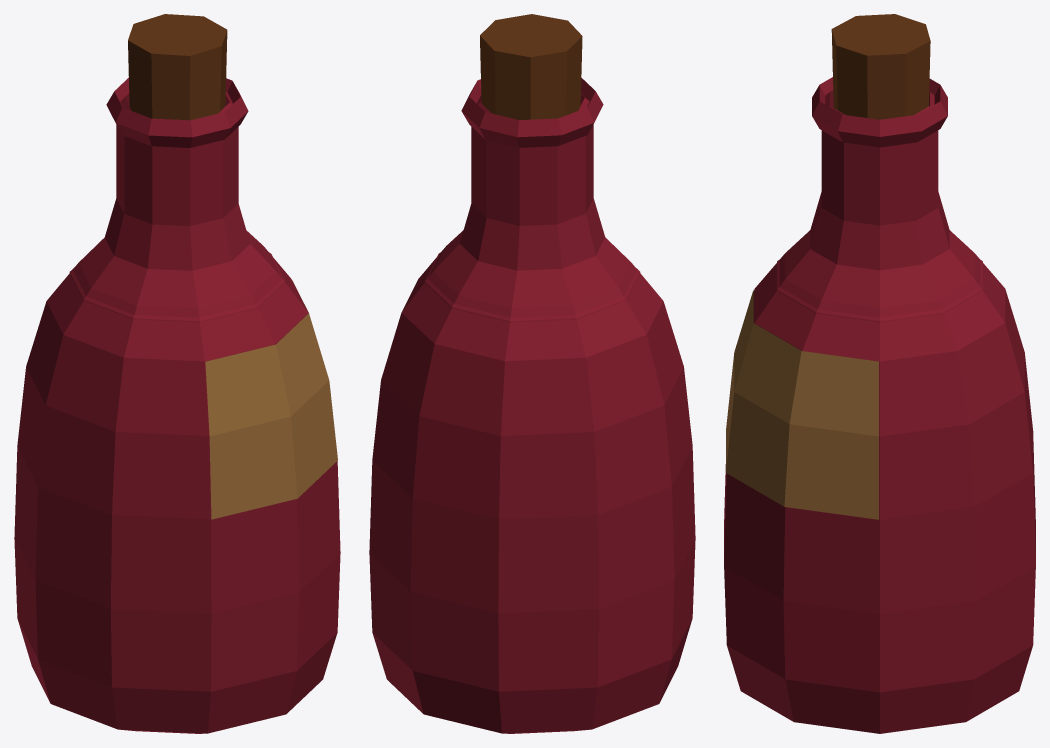
File: WineBottle.fbx
3 renders of one model, left to right at view 1: azimuth 30°, elevation 25°; view 2: azimuth 150°, elevation 25°; view 3: azimuth 270°, elevation 25°, orthographic.
Visible parts, largest first — view 1: WineBottle.002, WineBottle.001, BottleCork; view 2: WineBottle.002, BottleCork; view 3: WineBottle.002, WineBottle.001, BottleCork.
Boxes of the visible parts, box(x1,y1,x2,y2) form: WineBottle.002: box(14, 77, 340, 733); WineBottle.001: box(205, 280, 337, 519); BottleCork: box(128, 14, 227, 120); WineBottle.002: box(369, 78, 695, 733); BottleCork: box(480, 14, 582, 119); WineBottle.002: box(724, 77, 1035, 733); WineBottle.001: box(726, 290, 878, 519); BottleCork: box(831, 14, 930, 119).
Size of the model in its own units: 1.12 by 2.47 by 1.07.
